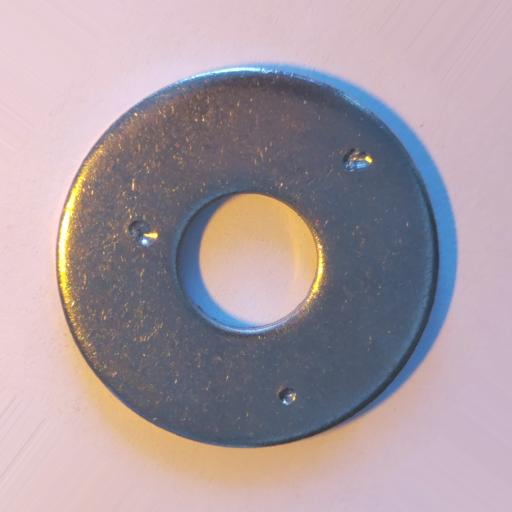circular_cavity: (129, 219, 157, 246), (342, 147, 371, 171), (277, 386, 297, 405)
